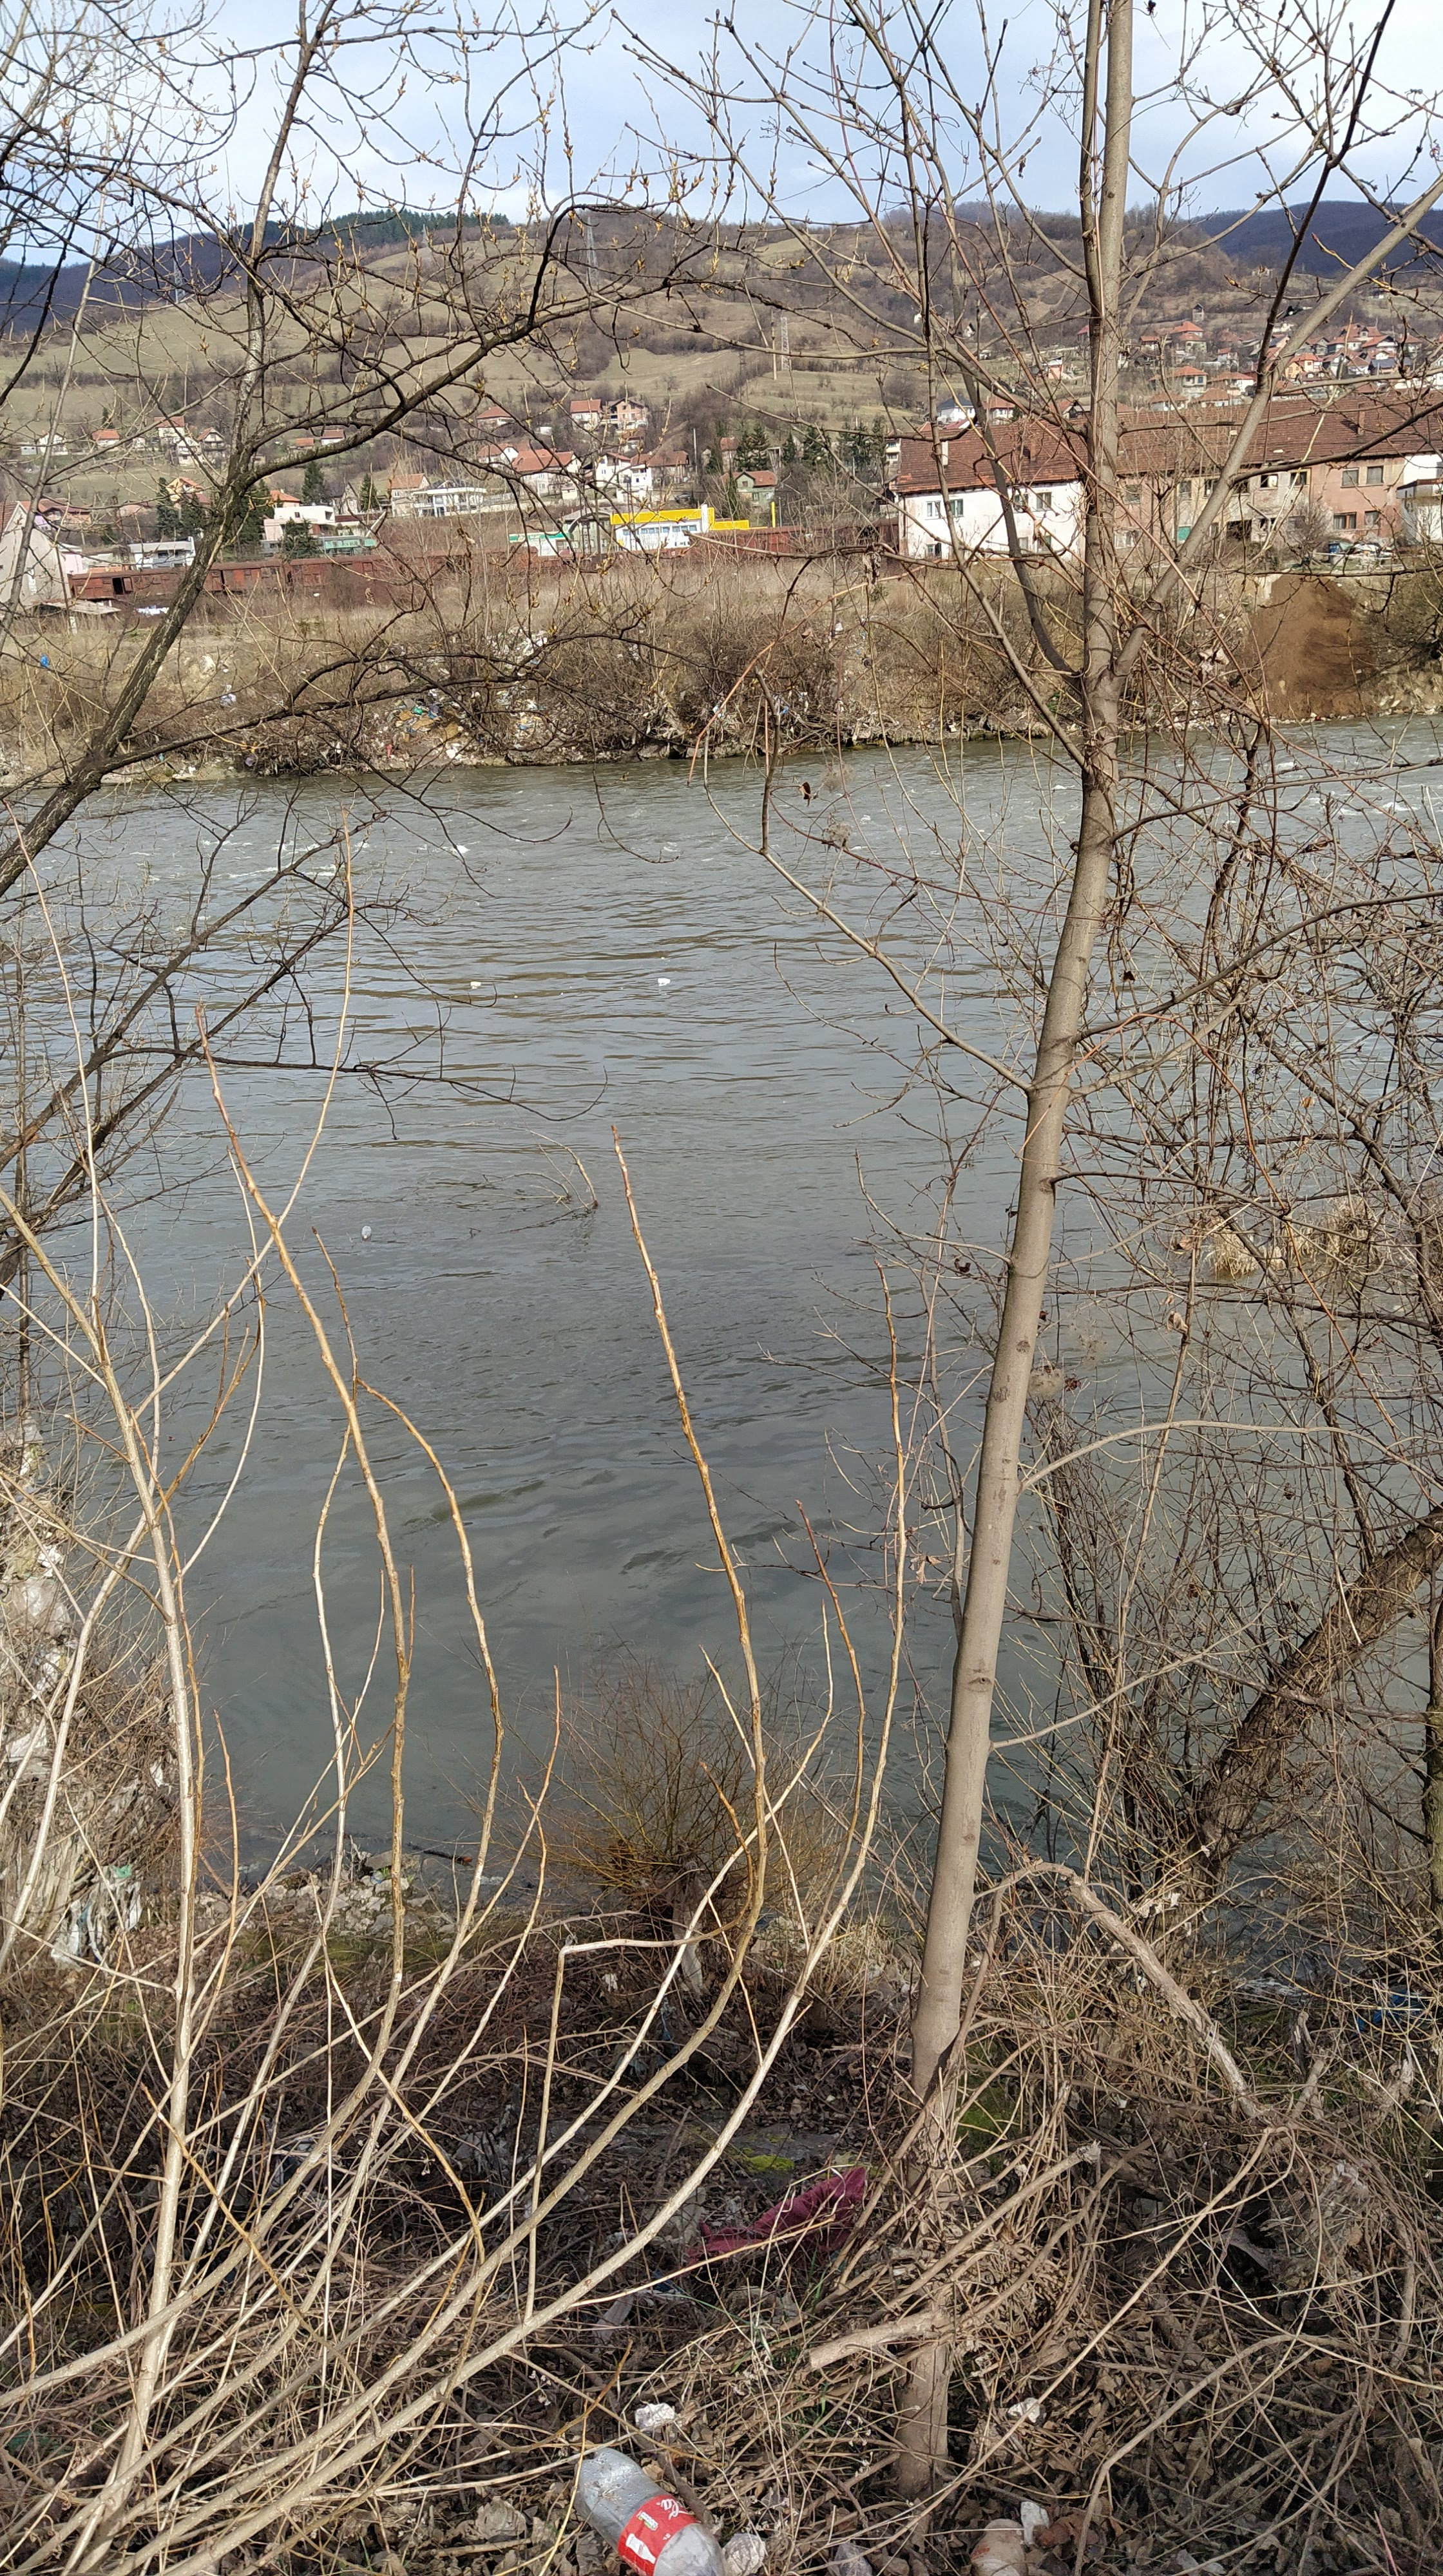Plastic Bottle: (480, 1875, 503, 1884), (359, 1224, 372, 1238)
